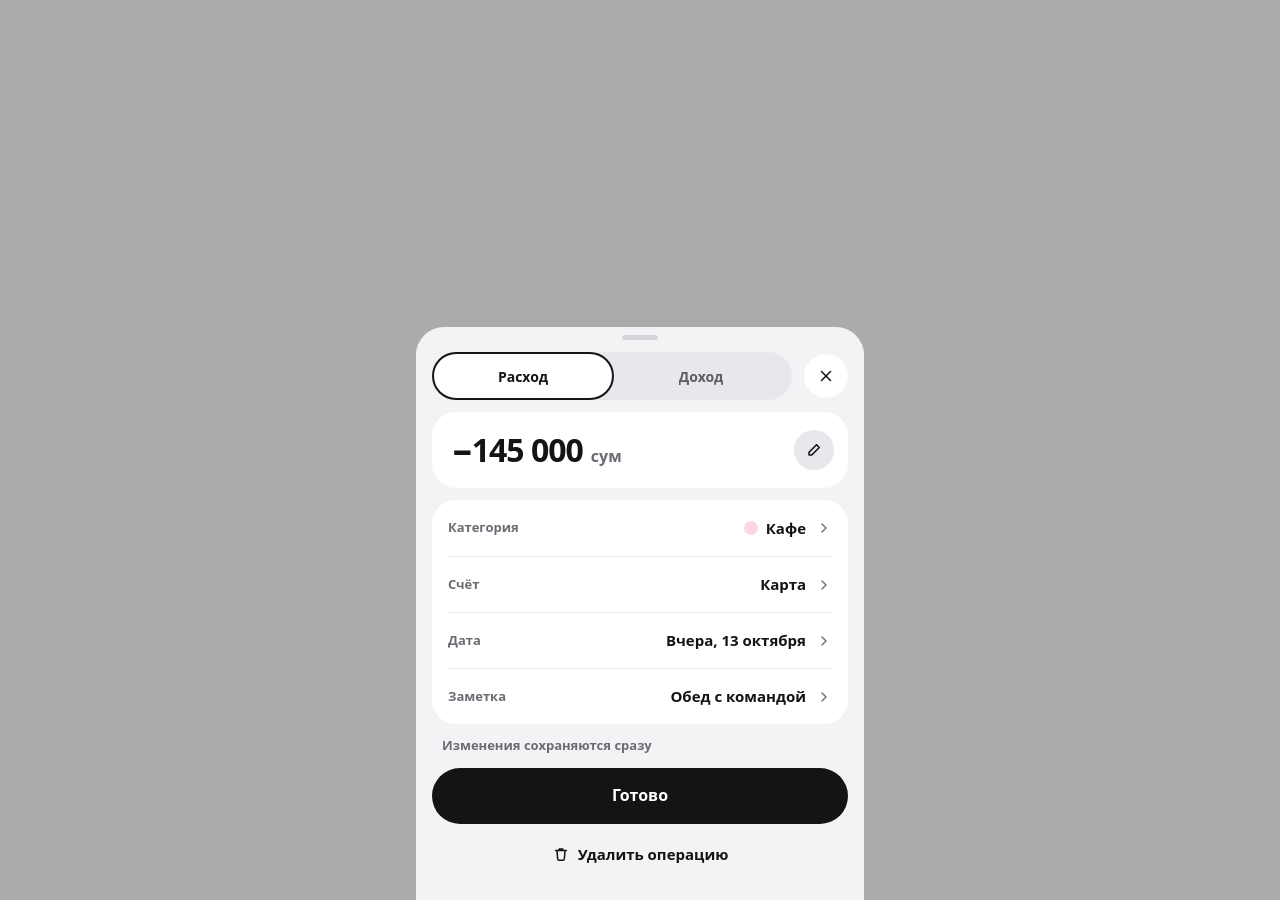
Test case: an account of another currency › keeps the number and offers «Пересчитать: 11,46 USD»
Click the button "Счёт Карта" at (464, 584), box 448,556 -> 832,612
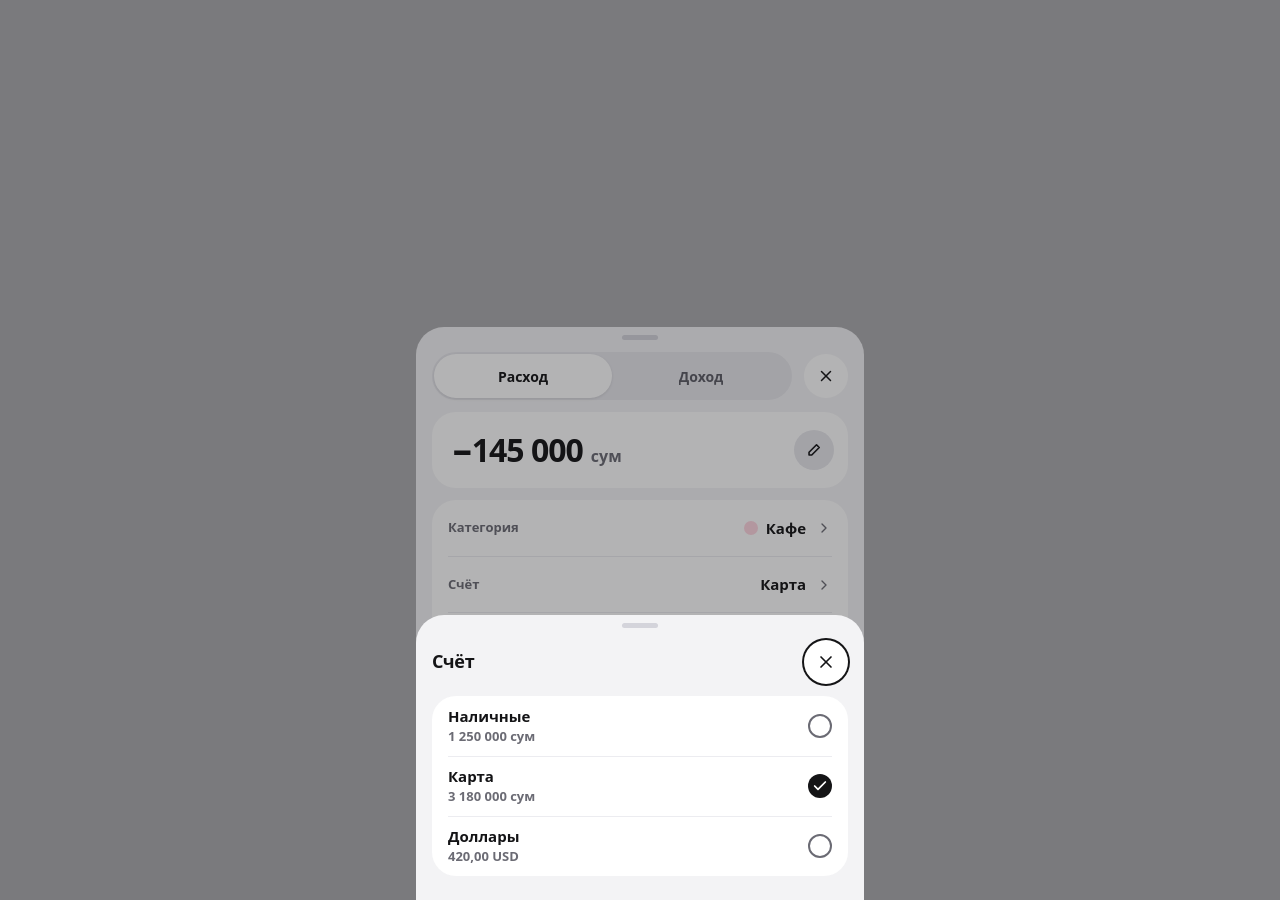
Click the radio button labelled "Доллары 420,00 USD" at (484, 836), box 432,816 -> 848,876
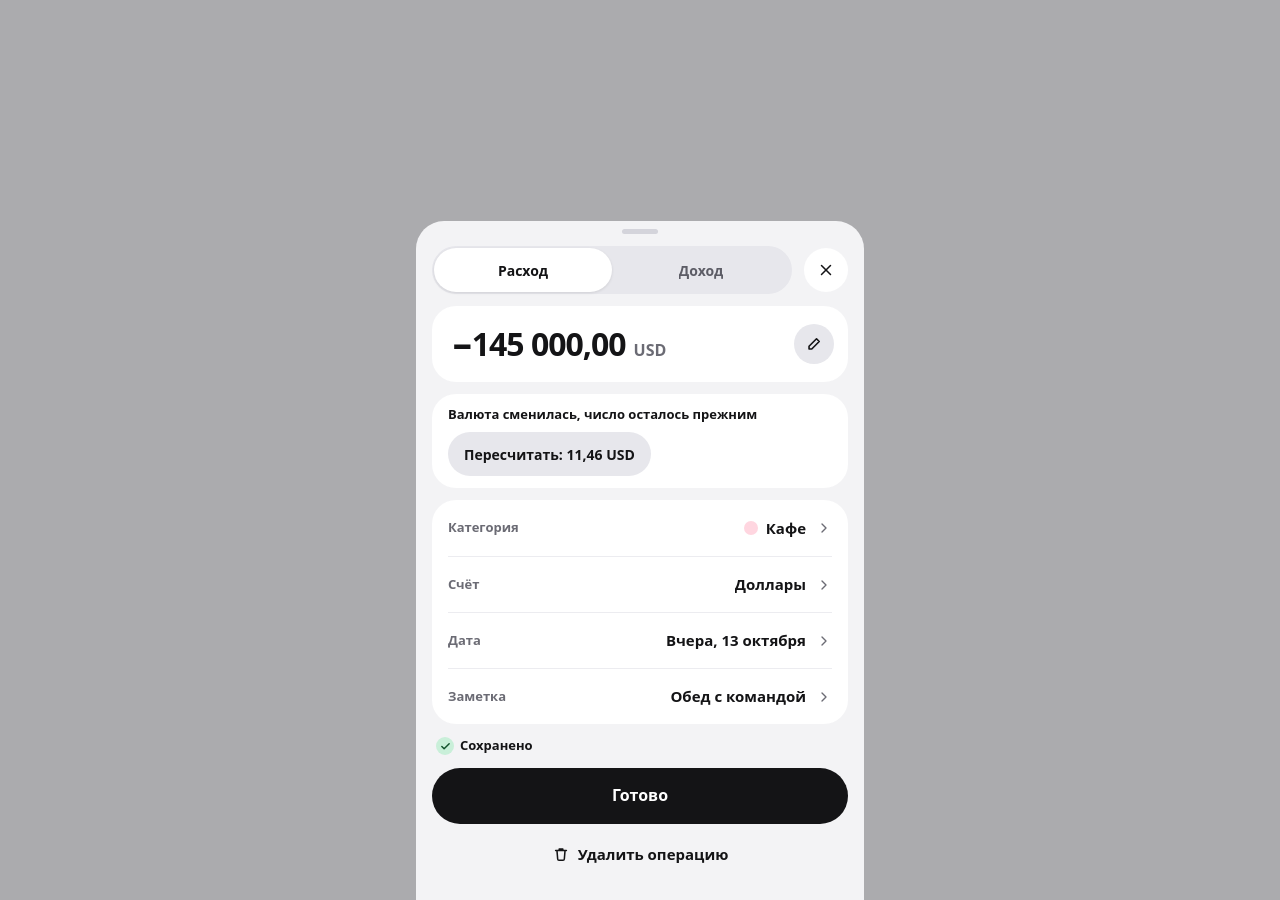
Expected: the button "−145 000,00 USD" is shown, 432,306 -> 848,382
Expected: the text "Валюта сменилась, число осталось прежним" is shown, 448,406 -> 757,424
Click the button "Пересчитать: 11,46 USD" at (549, 454), box 448,432 -> 651,476
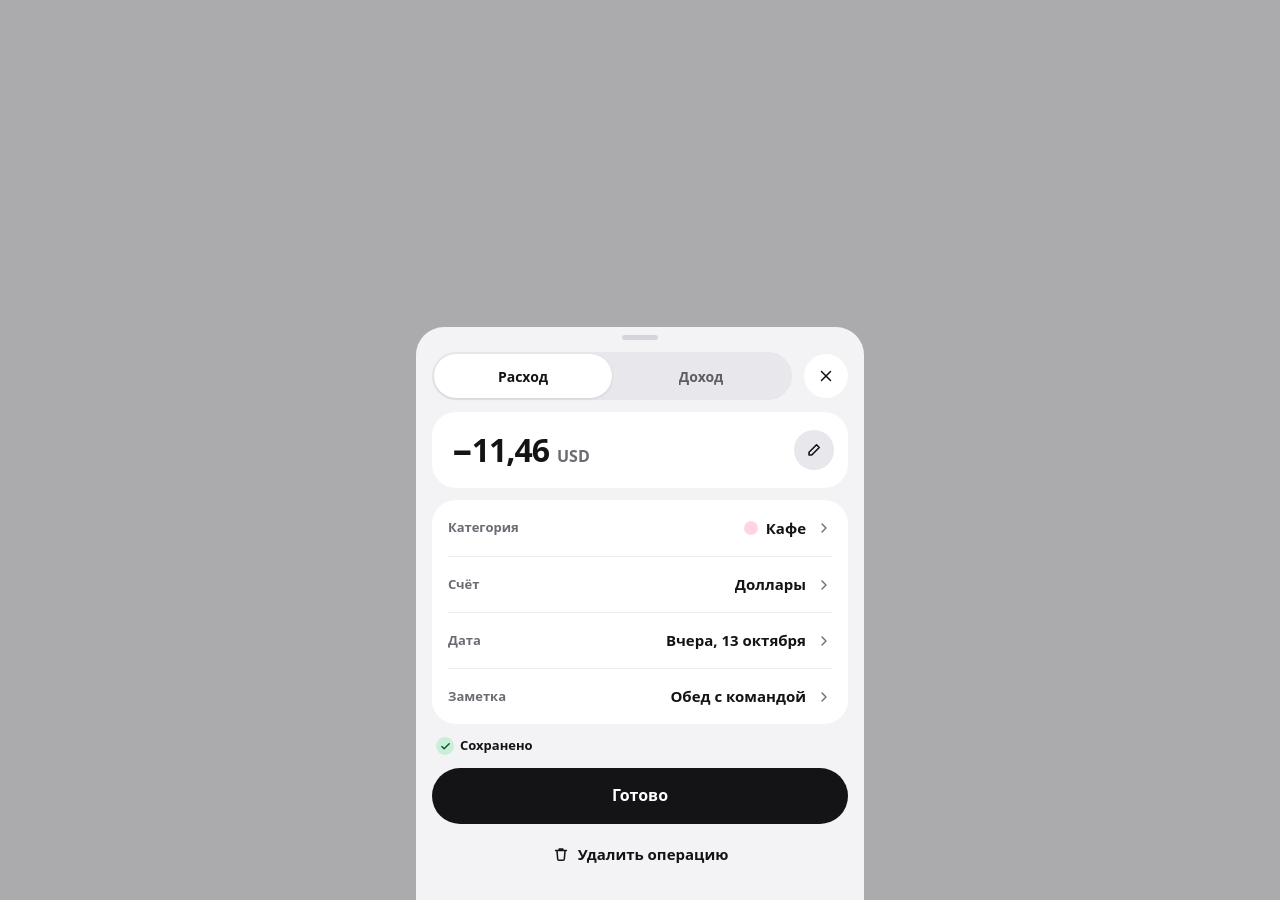
Expected: the button "−11,46 USD" is shown, 432,412 -> 848,488
Expected: the text "Валюта сменилась" is gone
